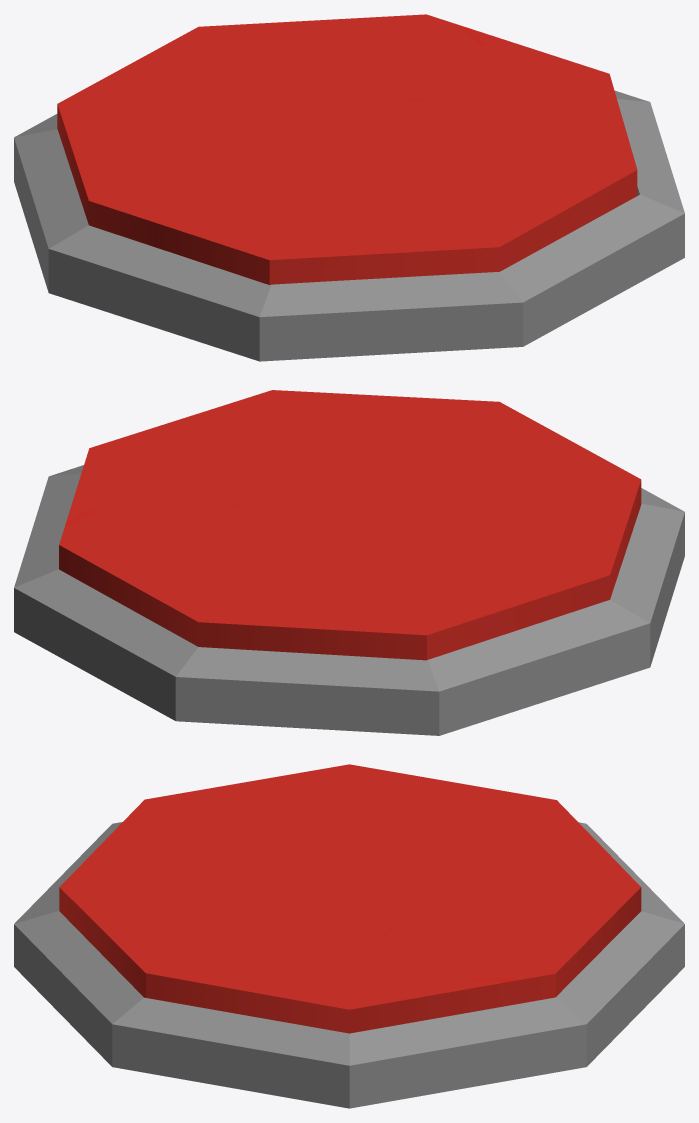
File: Button.fbx
The picture shows the model from 3 angles, top to bottom: view 1: azimuth 30°, elevation 25°; view 2: azimuth 150°, elevation 25°; view 3: azimuth 270°, elevation 25°; orthographic projection. The views are drawn at different scales.
Visible parts, largest first — view 1: pCube1, pTorus1; view 2: pCube1, pTorus1; view 3: pCube1, pTorus1.
Boxes of the visible parts, <box> form: pCube1: <box>57,14,637,284</box>; pTorus1: <box>14,90,684,361</box>; pCube1: <box>59,390,641,660</box>; pTorus1: <box>14,465,684,735</box>; pCube1: <box>59,764,641,1033</box>; pTorus1: <box>14,822,684,1108</box>.
Bounding box in the file's own units: 2.21 × 0.2902 × 2.21.
